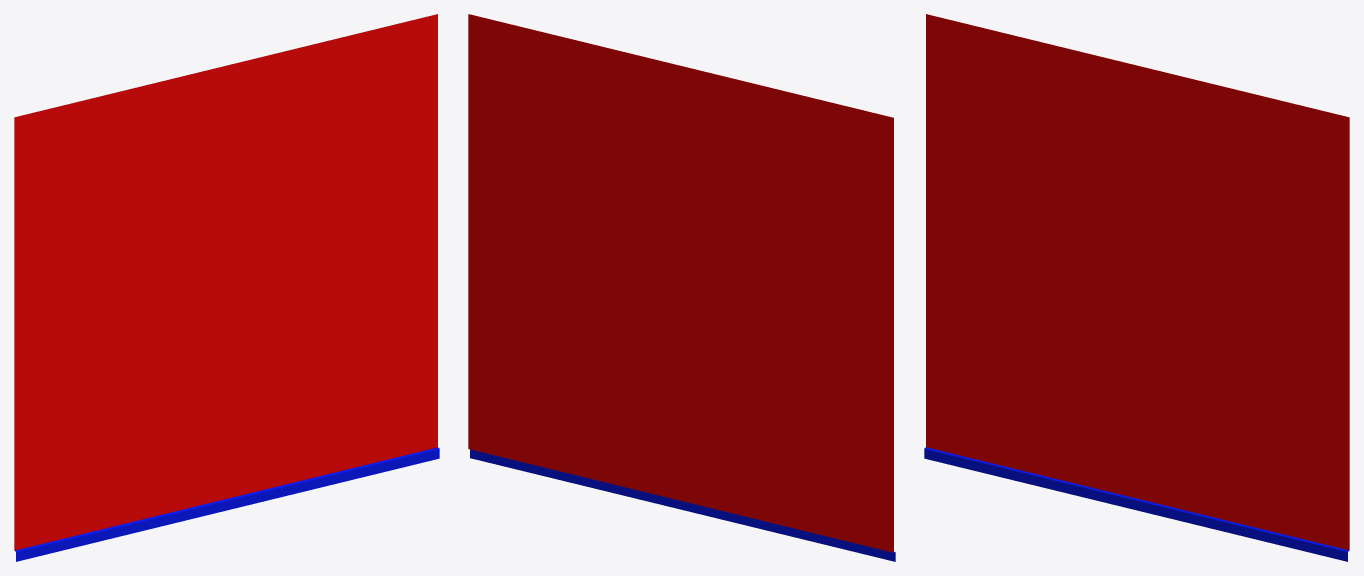
The model's file is Wall_1.fbx.
3 views of the same model, side by side, from view 1: azimuth 30°, elevation 25°; view 2: azimuth 150°, elevation 25°; view 3: azimuth 330°, elevation 25° (orthographic).
Parts seen in each view (by area): view 1: Wall_1; view 2: Wall_1; view 3: Wall_1.
Boxes of the visible parts, box(x1,y1,x2,y2) form: Wall_1: box(14, 14, 439, 561); Wall_1: box(468, 14, 895, 561); Wall_1: box(924, 14, 1349, 561).
Bounding box in the file's own units: 310 × 310 × 2.
